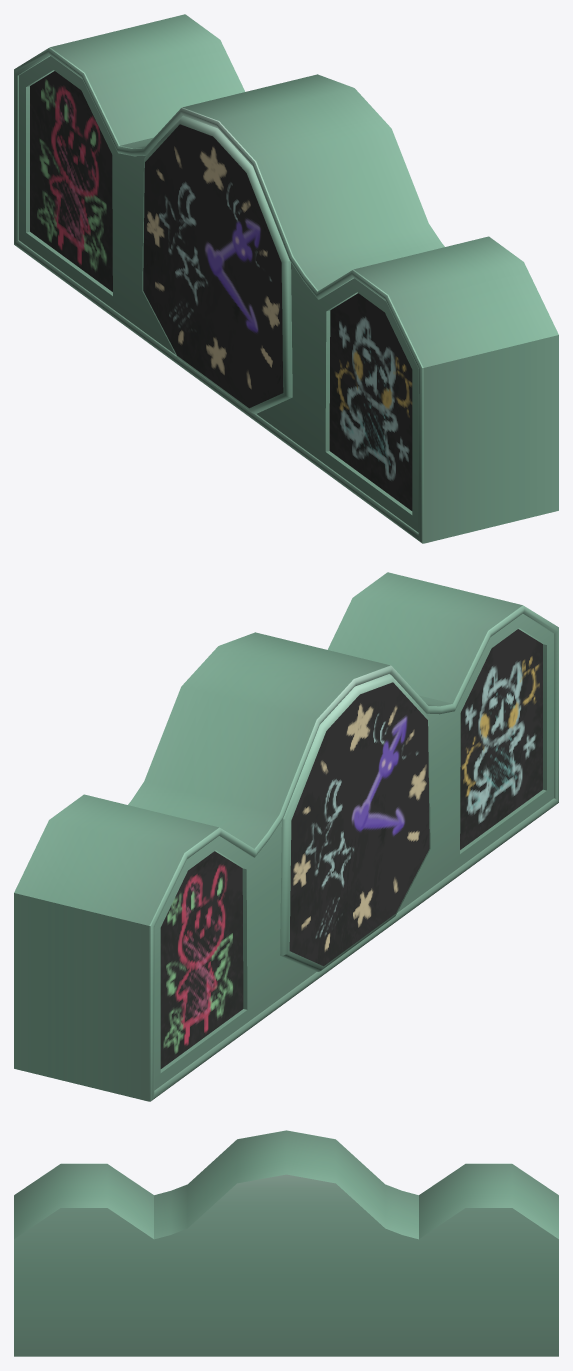
File: three face clock.fbx
3 views of the same model, one above another, from view 1: azimuth 30°, elevation 25°; view 2: azimuth 150°, elevation 25°; view 3: azimuth 270°, elevation 25° (orthographic). The views are drawn at different scales.
Parts seen in each view (by area): view 1: clock, clock_face; view 2: clock, clock_face; view 3: clock.
Part boxes in pixels (bbox=[...]): clock: bbox=[14, 14, 558, 543]; clock_face: bbox=[30, 71, 412, 510]; clock: bbox=[14, 572, 558, 1101]; clock_face: bbox=[160, 629, 542, 1068]; clock: bbox=[14, 1130, 558, 1356].
Bounding box in the file's own units: 71.09 × 131 × 356.
